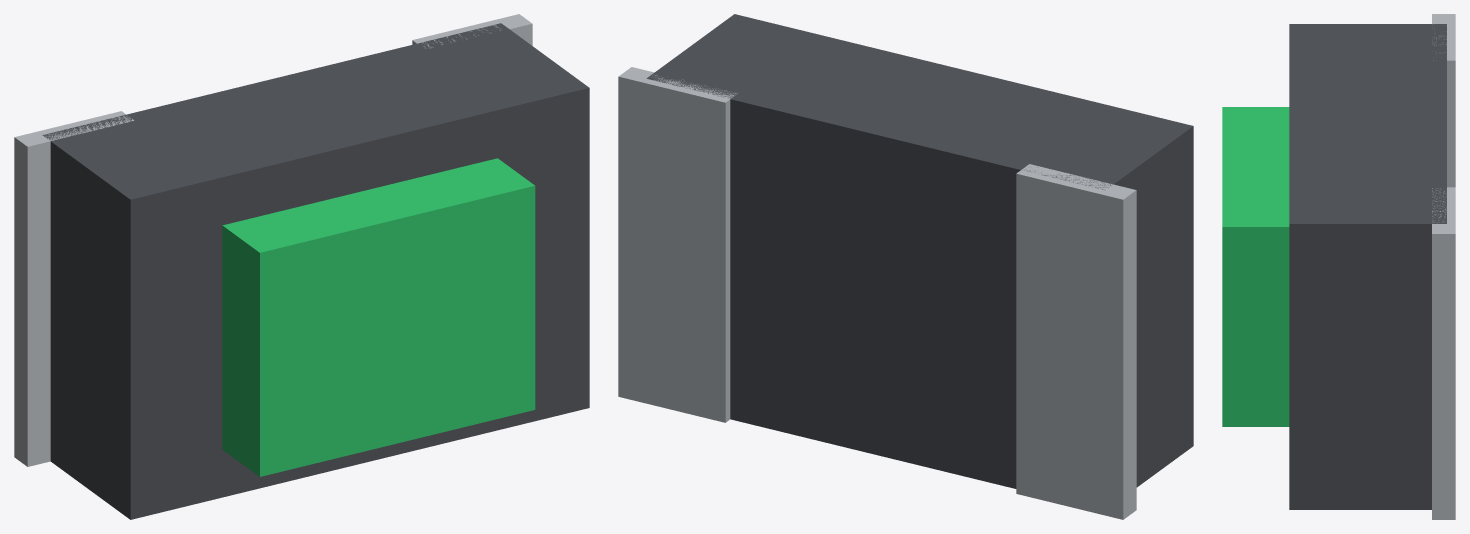
The model's file is 094_L106_LED1.glb.
The picture shows the model from 3 angles, left to right: view 1: azimuth 30°, elevation 25°; view 2: azimuth 150°, elevation 25°; view 3: azimuth 270°, elevation 25°; orthographic projection. The views are drawn at different scales.
Parts seen in each view (by area): view 1: 000_PLASTIC, 001_LED_GREEN, 002_SOLDER, 003_SOLDER; view 2: 000_PLASTIC, 002_SOLDER, 003_SOLDER; view 3: 000_PLASTIC, 001_LED_GREEN, 003_SOLDER, 002_SOLDER.
Part boxes in pixels (x1,y1,x2,y2): 000_PLASTIC: (42,23,589,519); 001_LED_GREEN: (222,158,535,476); 002_SOLDER: (14,111,133,466); 003_SOLDER: (412,14,532,48); 000_PLASTIC: (646,14,1193,488); 002_SOLDER: (1016,164,1136,519); 003_SOLDER: (618,67,737,422); 000_PLASTIC: (1289,24,1446,509); 001_LED_GREEN: (1222,107,1289,426); 003_SOLDER: (1432,187,1455,519); 002_SOLDER: (1432,14,1455,187).
Size of the model in its own units: 0.0033 by 0.002 by 0.00148.
